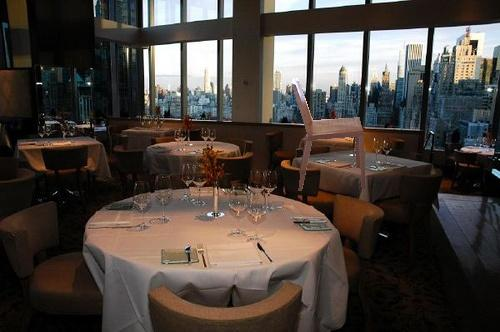tampered: (292, 79, 365, 191)
